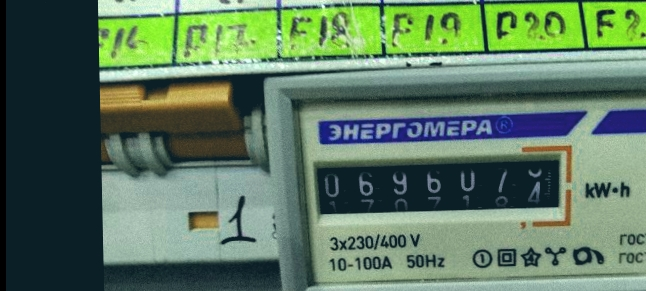0: (458, 163, 477, 193), (323, 170, 341, 198)
4: (525, 176, 543, 206)
6: (425, 164, 443, 194), (357, 168, 375, 196)
7: (492, 163, 512, 194)
9: (390, 167, 409, 195)
screen: (301, 140, 579, 230)
